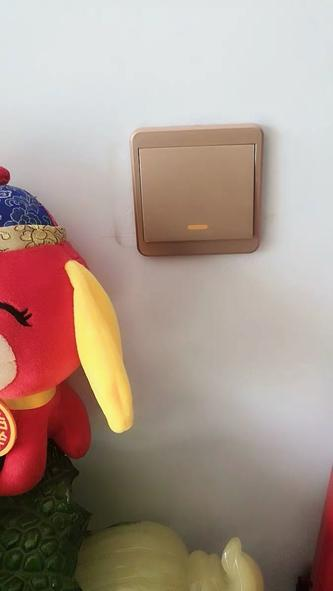switch: (132, 137, 262, 246)
